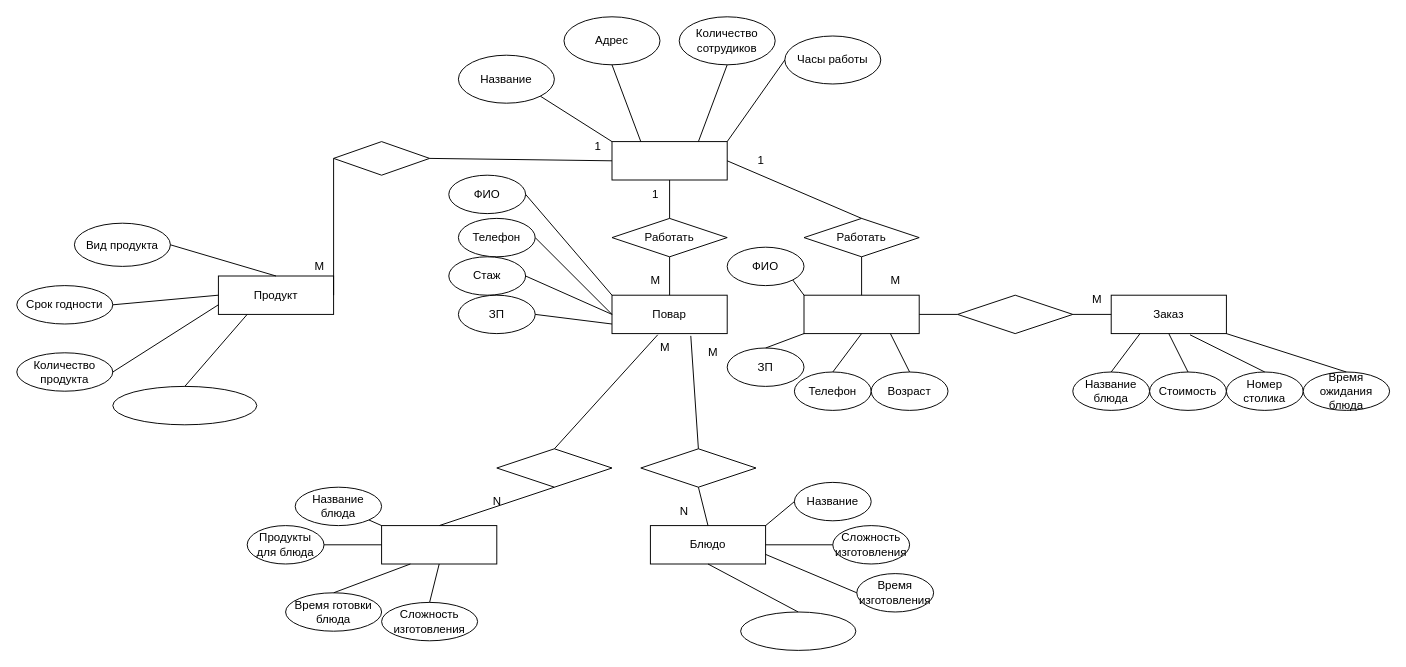
Image size: 1406x667. Some labels were removed from this diagram. The box of each missing label's shape, as (x1, y1, x2, y2) in pixels:
Готовить: (640, 448, 756, 487)
Знать: (496, 448, 612, 487)
Иметь: (333, 141, 430, 175)
Калорийность блюда: (740, 611, 856, 650)
Официант: (803, 294, 919, 334)
Принимать заказ: (957, 294, 1073, 334)
Ресторан: (611, 141, 727, 180)
Рецепт блюда: (381, 525, 497, 564)
Цена продукта: (112, 385, 257, 425)
